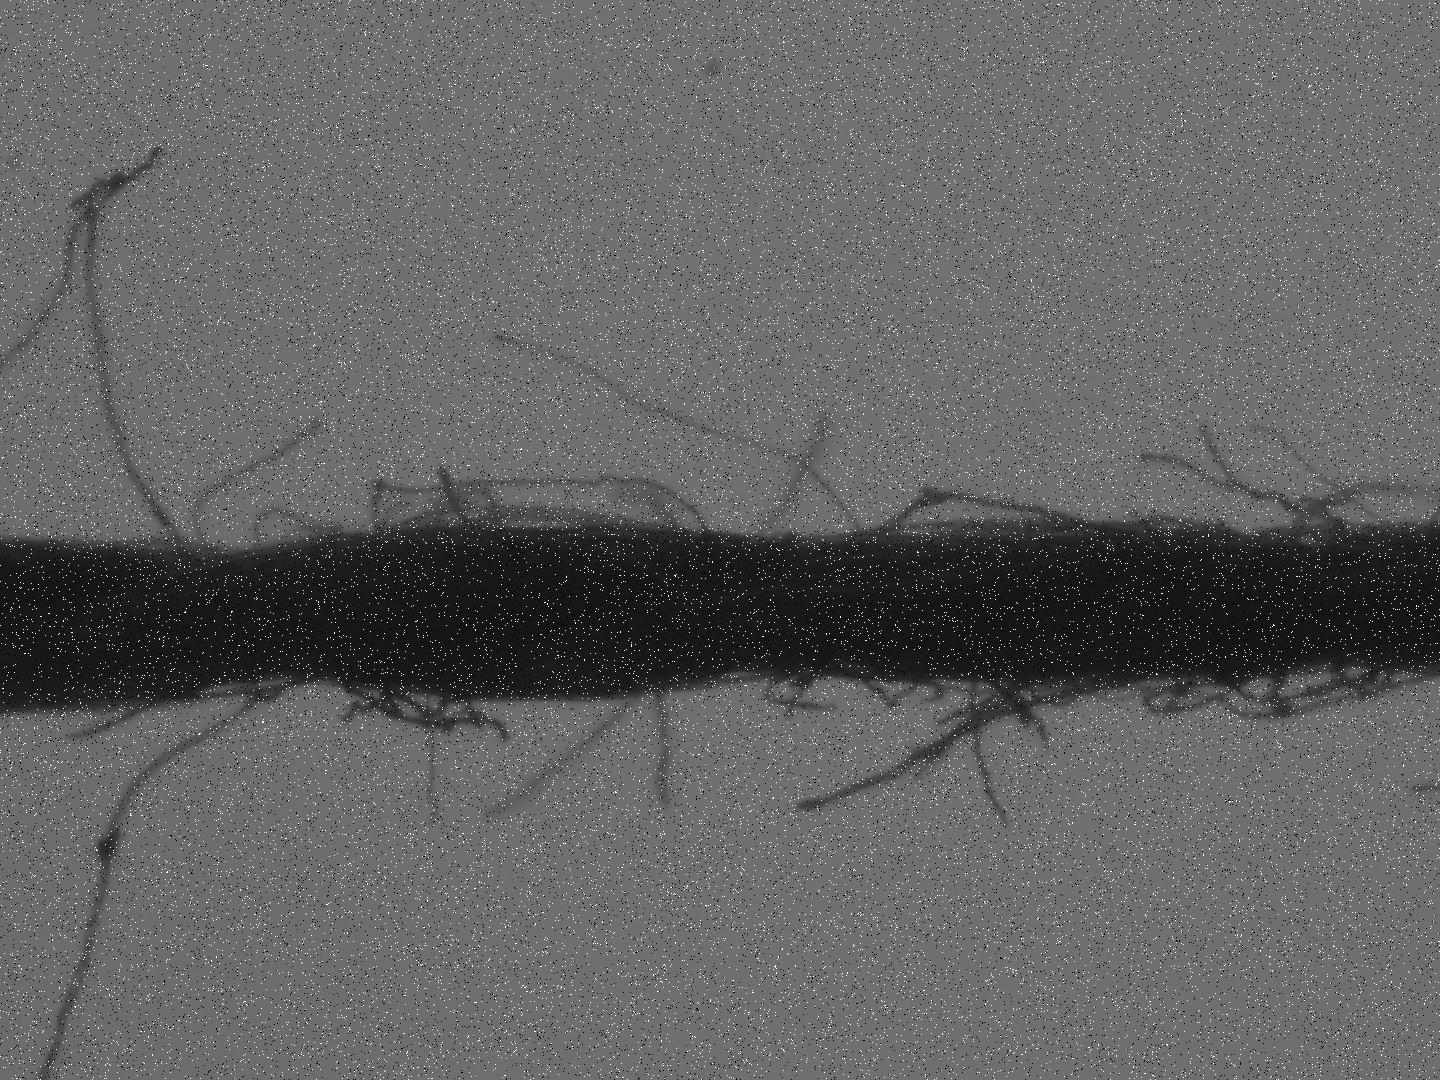loop_fiber: (364, 469, 714, 559), (850, 481, 1152, 557), (322, 666, 515, 753), (1219, 658, 1396, 708), (1254, 484, 1364, 543), (1146, 675, 1263, 716), (248, 504, 341, 549), (1330, 663, 1392, 706), (863, 680, 927, 714)
protruding_fiber: (190, 414, 327, 548), (651, 684, 672, 815)
